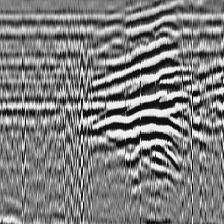cavities: (84, 33, 190, 184)
